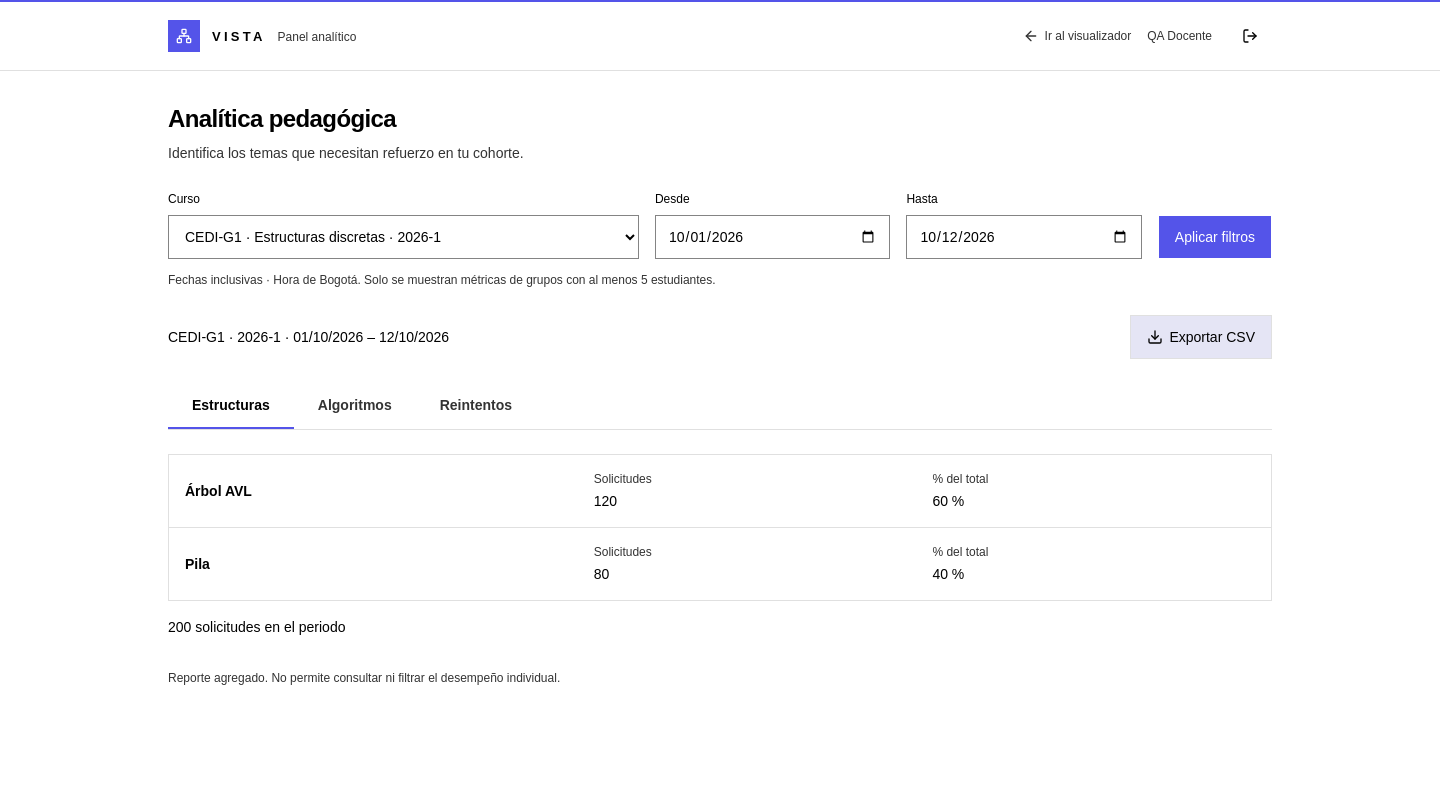
destaca la dificultad con texto además de color
Click the button with test id "analytics-view-retries".
click(476, 406)  # box [416,383,536,429]
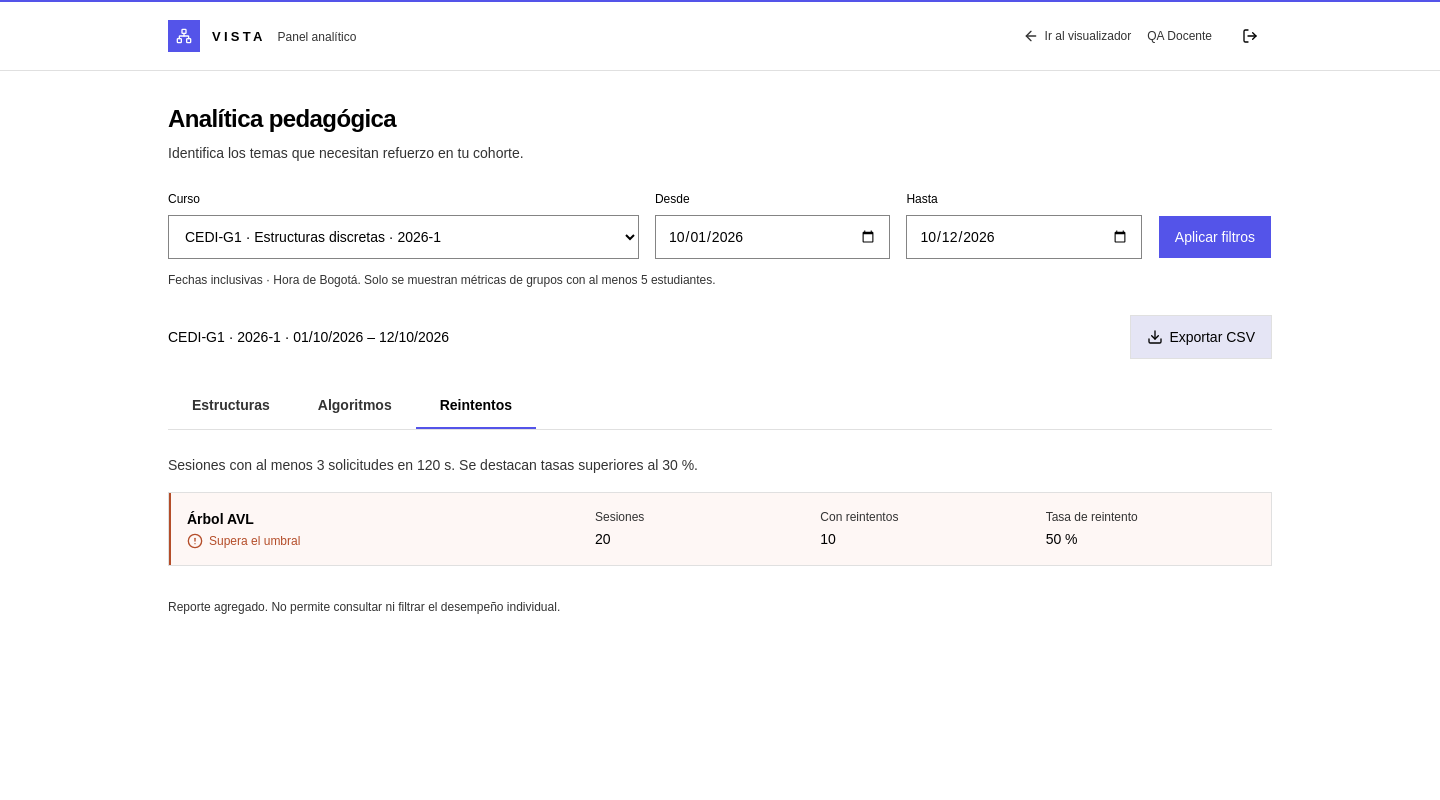
Expected: the text with test id "analytics-retry-row" reads "50 %", [1046,531,1078,547]
Expected: the element with test id "analytics-retry-row" reads "Supera el umbral", [209,534,300,548]
Expected: the text with test id "analytics-retry-rule" shows "30 %", [168,457,698,473]
